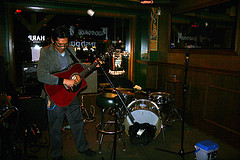guitar: (44, 50, 113, 107)
